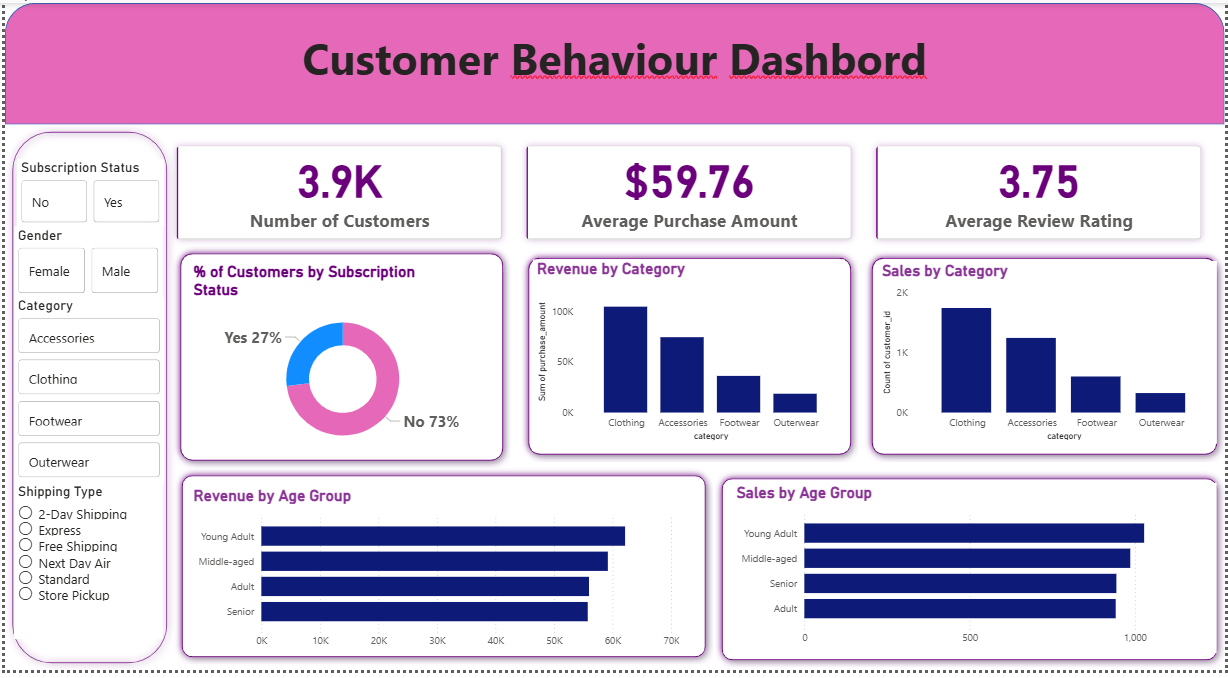

The page's visual inventory and layout, read from the dashboard file:
{"tool":"powerbi","page":{"name":"Page 1","canvas":[1500,820],"ordinal":0},"visuals":[{"type":"cardVisual","fields":{"Data":["mydatabase mytable.Number of Customers","mydatabase mytable.Average PUrchase Amount","mydatabase mytable.Average Review Rating"]},"box":[182.6,147.5,1316.7,171.5],"z":0},{"type":"shape","box":[0,0,1499.3,149.4],"z":1000},{"type":"textbox","box":[0,29.5,1499.3,119.9],"z":2000},{"type":"shape","box":[206.5,298.7,414.9,272.9],"z":3000},{"type":"donutChart","title":"% of Customers by Subscription Status","fields":{"Category":["mydatabase mytable.subscription_status"],"Y":["CountNonNull(mydatabase mytable.customer_id)"]},"box":[226.8,319,376.2,237.9],"z":4000},{"type":"shape","box":[1056.7,304.3,442.6,260],"z":5000},{"type":"shape","box":[634.4,304.3,414.9,260],"z":6000},{"type":"clusteredColumnChart","title":"Revenue by Category","fields":{"Y":["Sum(mydatabase mytable.purchase_amount)"],"Category":["mydatabase mytable.category"]},"box":[649.1,315.3,383.6,226.8],"z":6001},{"type":"clusteredColumnChart","title":"Sales by Category","fields":{"Y":["CountNonNull(mydatabase mytable.customer_id)"],"Category":["mydatabase mytable.category"]},"box":[1073.3,317.2,416.8,225],"z":6002},{"type":"shape","box":[0,149.4,208.4,671.3],"z":6003},{"type":"advancedSlicerVisual","fields":{"Values":["mydatabase mytable.subscription_status"]},"box":[14.8,191.8,180.7,83],"z":6004},{"type":"advancedSlicerVisual","fields":{"Values":["mydatabase mytable.gender"]},"box":[11.1,274.8,182.6,86.7],"z":6005},{"type":"advancedSlicerVisual","fields":{"Values":["mydatabase mytable.category"]},"box":[11.1,361.4,184.4,228.7],"z":6006},{"type":"listSlicer","fields":{"Values":["mydatabase mytable.shipping_type"]},"box":[11.1,590.1,182.6,191.8],"z":6007},{"type":"shape","box":[208.4,571.7,662,241.6],"z":6009},{"type":"shape","box":[872.3,575.4,627,241.6],"z":6010},{"type":"clusteredBarChart","title":"Sales by Age Group","fields":{"Y":["CountNonNull(mydatabase mytable.customer_id)"],"Category":["mydatabase mytable.age_group"]},"box":[894.4,590.1,595.7,208.4],"z":6011},{"type":"clusteredBarChart","title":"Revenue by Age Group","fields":{"Y":["Sum(mydatabase mytable.purchase_amount)"],"Category":["mydatabase mytable.age_group"]},"box":[226.8,593.8,606.7,208.4],"z":6012}]}

Visuals, with their boxes in screenshot pixels (x1, y1, x2, y2), scaled from the page's 1500x820 canvas onto the 1228x678 screenshot:
cardVisual - mydatabase mytable.Number of Customers x mydatabase mytable.Average PUrchase Amount: {"left": 149, "top": 122, "right": 1227, "bottom": 264}
shape: {"left": 0, "top": 0, "right": 1227, "bottom": 124}
textbox: {"left": 0, "top": 24, "right": 1227, "bottom": 124}
shape: {"left": 169, "top": 247, "right": 509, "bottom": 473}
"% of Customers by Subscription Status" donutChart: {"left": 186, "top": 264, "right": 494, "bottom": 460}
shape: {"left": 865, "top": 252, "right": 1227, "bottom": 467}
shape: {"left": 519, "top": 252, "right": 859, "bottom": 467}
"Revenue by Category" clusteredColumnChart: {"left": 531, "top": 261, "right": 845, "bottom": 448}
"Sales by Category" clusteredColumnChart: {"left": 879, "top": 262, "right": 1220, "bottom": 448}
shape: {"left": 0, "top": 124, "right": 171, "bottom": 677}
advancedSlicerVisual - mydatabase mytable.subscription_status: {"left": 12, "top": 159, "right": 160, "bottom": 227}
advancedSlicerVisual - mydatabase mytable.gender: {"left": 9, "top": 227, "right": 159, "bottom": 299}
advancedSlicerVisual - mydatabase mytable.category: {"left": 9, "top": 299, "right": 160, "bottom": 488}
listSlicer - mydatabase mytable.shipping_type: {"left": 9, "top": 488, "right": 159, "bottom": 646}
shape: {"left": 171, "top": 473, "right": 713, "bottom": 672}
shape: {"left": 714, "top": 476, "right": 1227, "bottom": 676}
"Sales by Age Group" clusteredBarChart: {"left": 732, "top": 488, "right": 1220, "bottom": 660}
"Revenue by Age Group" clusteredBarChart: {"left": 186, "top": 491, "right": 682, "bottom": 663}
